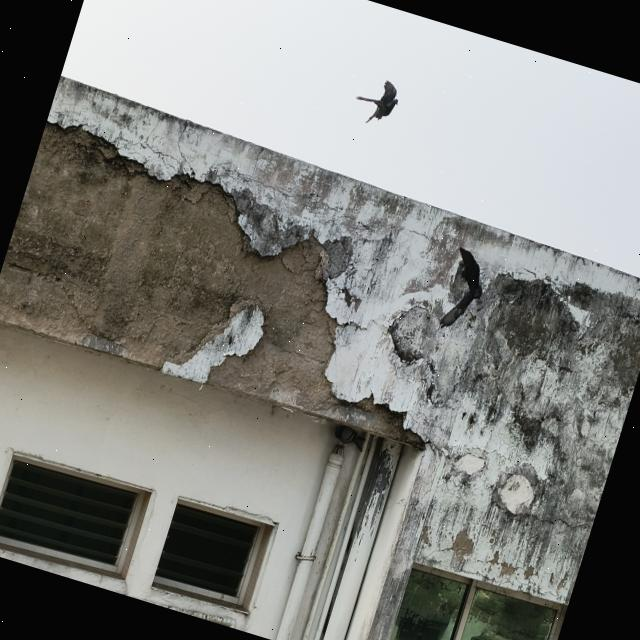Moss growth due to damping: (426, 274, 640, 565)
Scaling: (0, 123, 423, 448)
